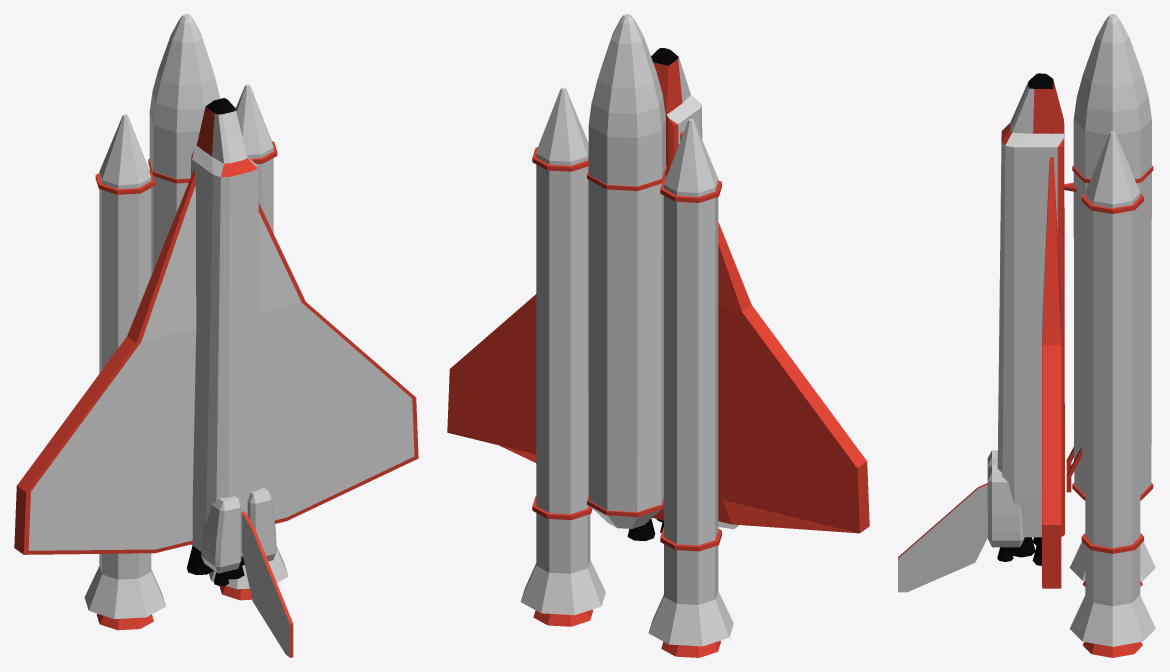
The model's file is Shuttle Red .fbx.
3 views of the same model, side by side, from view 1: azimuth 30°, elevation 25°; view 2: azimuth 150°, elevation 25°; view 3: azimuth 270°, elevation 25° (orthographic). The views are drawn at different scales.
Visible parts, largest first — view 1: Shuttle Red; view 2: Shuttle Red; view 3: Shuttle Red.
Boxes of the visible parts, x1=… form: Shuttle Red: x1=14, y1=14, x2=418, y2=657; Shuttle Red: x1=447, y1=14, x2=869, y2=657; Shuttle Red: x1=898, y1=14, x2=1155, y2=657.
Bounding box in the file's own units: 510 × 725 × 283.
